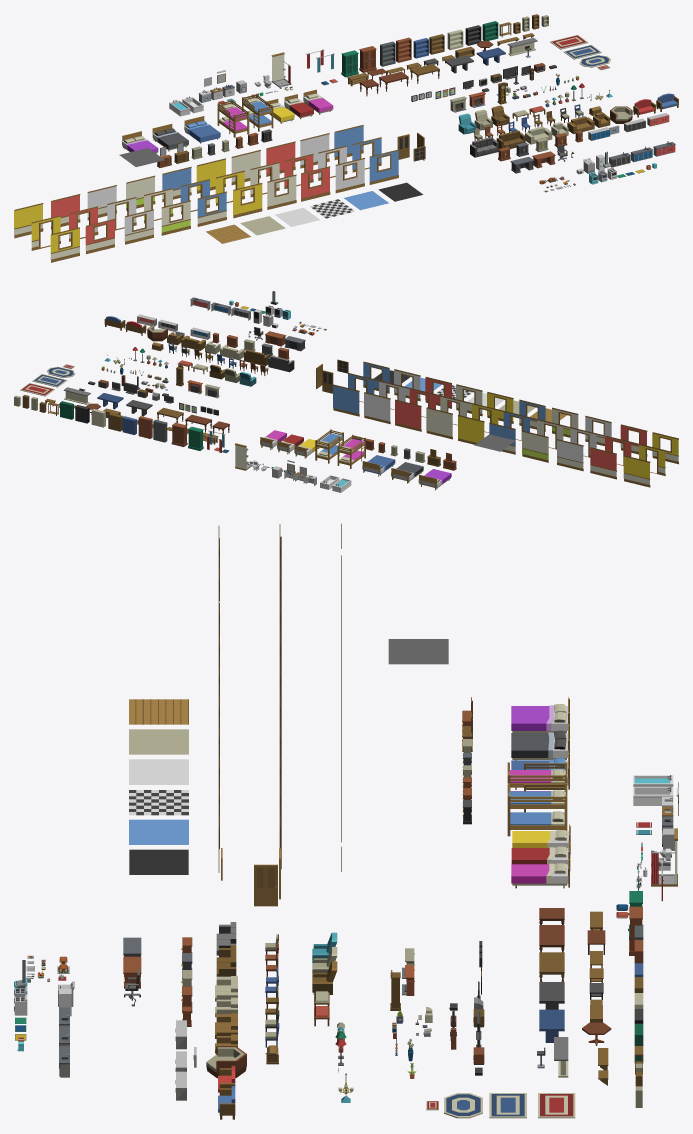
Rendered from SIMS.fbx.
3 views of the same model, one above another, from view 1: azimuth 30°, elevation 25°; view 2: azimuth 150°, elevation 25°; view 3: azimuth 270°, elevation 25° (orthographic). The views are drawn at different scales.
Visible parts, largest first — view 1: Prop_BunkBed_Pink, Prop_BunkBed_Blue, Wall_Window_01_White, Wall_Window_01_Grey, Wall_Window_02_Green, Wall_Window_01_Blue, Wall_Window_01_Yellow, Wall_Window_02_Blue, Wall_02_Yellow, Wall_Window__2_Red, Wall_Window_02_Grey, Wall_Window_02_Yellow (+37 smaller); view 2: Wall_01_Red, Wall_01_White, Wall_02_Green, Wall_02_Grey, Wall_02_Red, Wall_02_Yellow, Wall_01_Blue, Wall_01_Grey, Prop_BunkBed_Pink, Wall_01_Yellow, Prop_BunkBed_Blue, Wall_Window_02_Yellow (+31 smaller); view 3: Prop_BunkBed_Blue, Prop_DoubleBead_Grey3, Prop_DoubleBead_Pink6, Ceiling, Floor_Carpet_Black, Floor_Carpet_Grey, Floor_Carpet_Tiles, Floor_Carpet_White, Floor_Vinyl, Floor_Wood, Prop_BunkBed_Pink, Prop_SingleBed_Pink (+7 smaller).
Boxes of the visible parts, x1,y1,x2,y2 form: Prop_BunkBed_Pink: (217,99,249,137); Prop_BunkBed_Blue: (242,93,273,131); Wall_Window_01_White: (267,174,296,209); Wall_Window_01_Grey: (335,158,364,193); Wall_Window_02_Green: (161,200,190,235); Wall_Window_01_Blue: (369,149,398,184); Wall_Window_01_Yellow: (233,183,262,218); Wall_Window_02_Blue: (197,191,226,226); Wall_02_Yellow: (14,203,43,238); Wall_Window__2_Red: (85,219,114,254); Wall_Window_02_Grey: (124,209,153,244); Wall_Window_02_Yellow: (50,227,79,262); Wall_01_Red: (395,399,421,431); Wall_01_White: (426,407,452,439); Wall_02_Green: (522,430,548,462); Wall_02_Grey: (557,439,583,471); Wall_02_Red: (590,447,616,479); Wall_02_Yellow: (623,455,650,487); Wall_01_Blue: (333,384,359,416); Wall_01_Grey: (364,392,390,424); Prop_BunkBed_Pink: (337,434,365,468); Wall_01_Yellow: (458,415,484,444); Prop_BunkBed_Blue: (315,429,343,463); Wall_Window_02_Yellow: (652,432,678,464); Prop_BunkBed_Blue: (507,783,567,836); Prop_DoubleBead_Grey3: (511,723,569,760); Prop_DoubleBead_Pink6: (511,697,569,732); Ceiling: (388,639,448,664); Floor_Carpet_Black: (129,849,188,874); Floor_Carpet_Grey: (129,819,188,844); Floor_Carpet_Tiles: (129,790,188,815); Floor_Carpet_White: (129,759,188,784); Floor_Vinyl: (129,729,188,754); Floor_Wood: (129,699,188,724); Prop_BunkBed_Pink: (507,762,567,791); Prop_SingleBed_Pink: (511,857,569,888).
Bounding box in the file's own units: 10947 × 555 × 5589.
